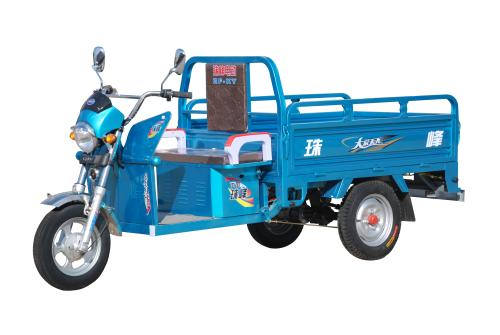tricycle: (31, 56, 465, 294)
